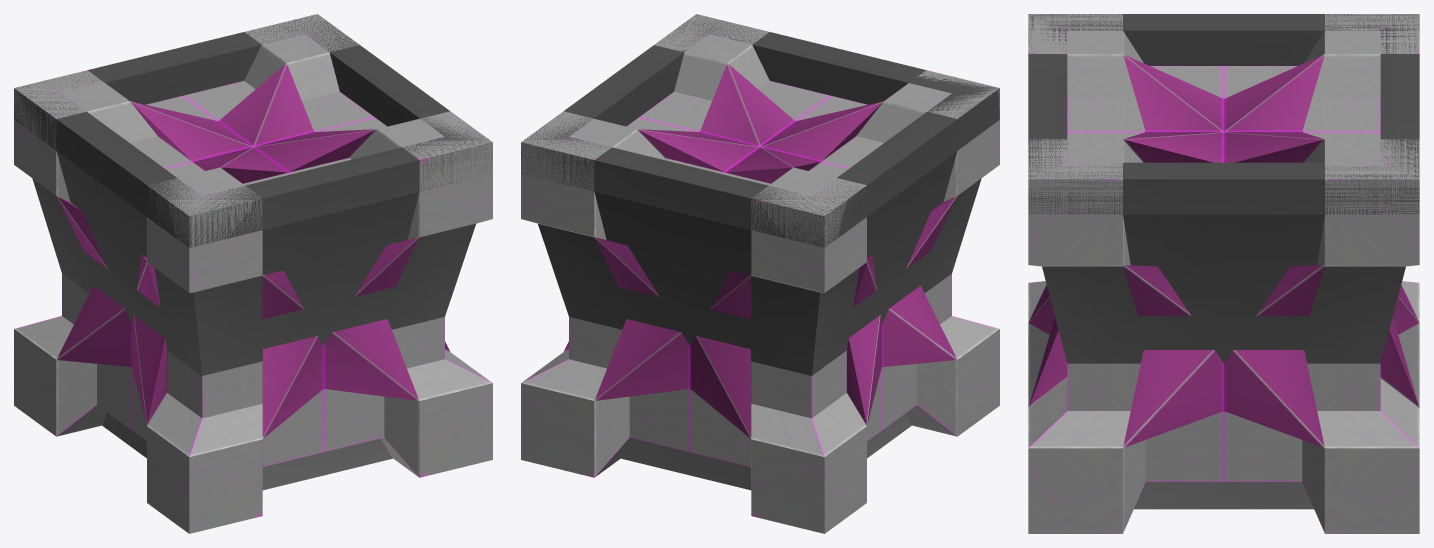
Rendered from machines.obj.
The picture shows the model from 3 angles, left to right: view 1: azimuth 30°, elevation 25°; view 2: azimuth 150°, elevation 25°; view 3: azimuth 270°, elevation 25°; orthographic projection. The views are drawn at different scales.
Visible parts, largest first — view 1: Creative_Cache_ccmdl, Chute_chutemdl; view 2: Creative_Cache_ccmdl, Chute_chutemdl; view 3: Creative_Cache_ccmdl, Chute_chutemdl.
Part boxes in pixels (x1,y1,x2,y2): Creative_Cache_ccmdl: (14, 14, 492, 533); Chute_chutemdl: (14, 14, 492, 490); Creative_Cache_ccmdl: (521, 14, 999, 533); Chute_chutemdl: (521, 14, 999, 490); Creative_Cache_ccmdl: (1028, 14, 1419, 533); Chute_chutemdl: (1028, 14, 1419, 509).
Size of the model in its own units: 1 by 1 by 1.
